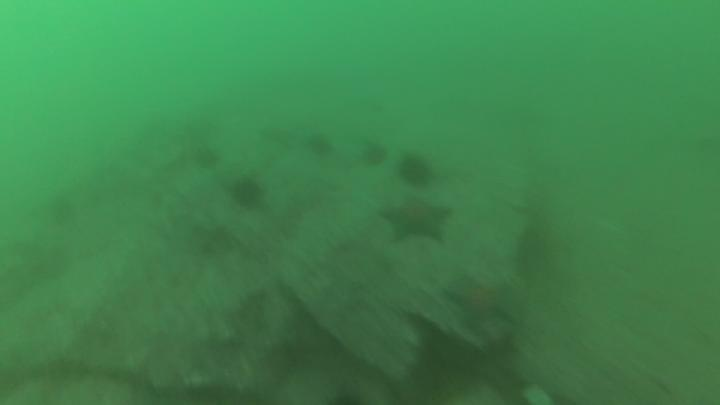echinus: (512, 225, 555, 281), (395, 151, 436, 191), (228, 175, 266, 211), (44, 191, 80, 229), (303, 130, 335, 160), (359, 140, 390, 170), (191, 144, 222, 171)
starfish: (441, 269, 522, 332), (378, 195, 454, 247)
